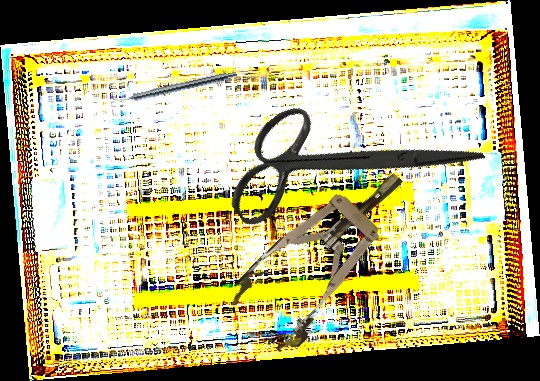Handpiece: (110, 67, 238, 108)
Iris Scissors: (204, 30, 486, 297)
Speculum: (222, 146, 432, 360)
